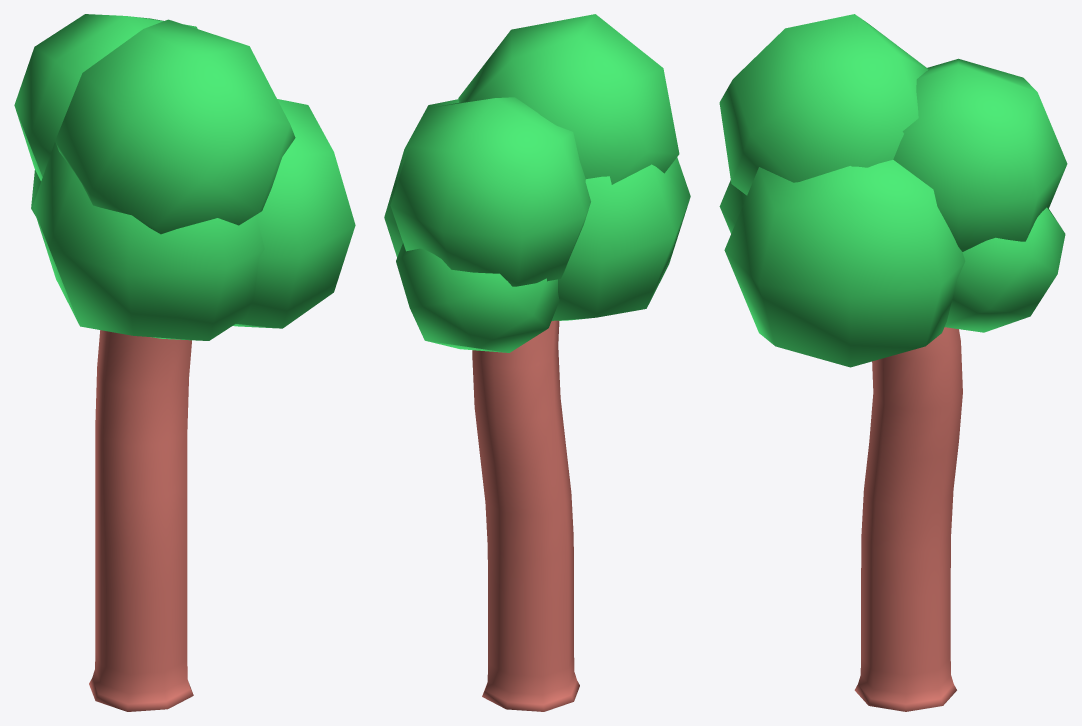
File: TreeOneVisitor.fbx
The picture shows the model from 3 angles, left to right: view 1: azimuth 30°, elevation 25°; view 2: azimuth 150°, elevation 25°; view 3: azimuth 270°, elevation 25°; orthographic projection. The views are drawn at different scales.
Parts seen in each view (by area): view 1: SmoothTree1; view 2: SmoothTree1; view 3: SmoothTree1.
Boxes of the visible parts, box(x1,y1,x2,y2) form: SmoothTree1: box(14, 14, 355, 711); SmoothTree1: box(384, 14, 690, 711); SmoothTree1: box(719, 14, 1067, 711).
Size of the model in its own units: 661 by 1512 by 712.
